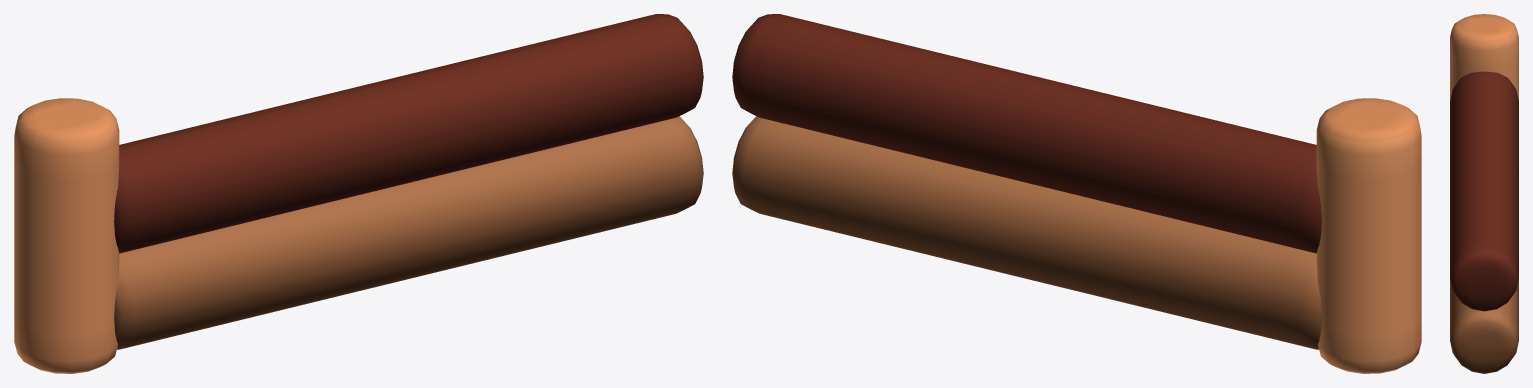
File: OBS0110197.fbx
The picture shows the model from 3 angles, left to right: view 1: azimuth 30°, elevation 25°; view 2: azimuth 150°, elevation 25°; view 3: azimuth 270°, elevation 25°; orthographic projection. The views are drawn at different scales.
Visible parts, largest first — view 1: smOBS0110197; view 2: smOBS0110197; view 3: smOBS0110197.
Part boxes in pixels (box(x1,y1,x2,y2)): smOBS0110197: box(14, 14, 703, 373); smOBS0110197: box(732, 14, 1421, 373); smOBS0110197: box(1450, 14, 1518, 373).
Size of the model in its own units: 253 by 87.95 by 35.18.
